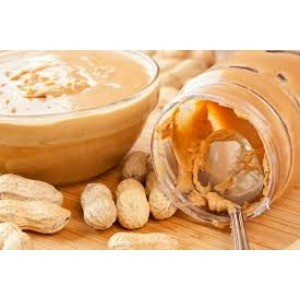peanut butter_brain food: (168, 67, 287, 214), (3, 54, 130, 175)
